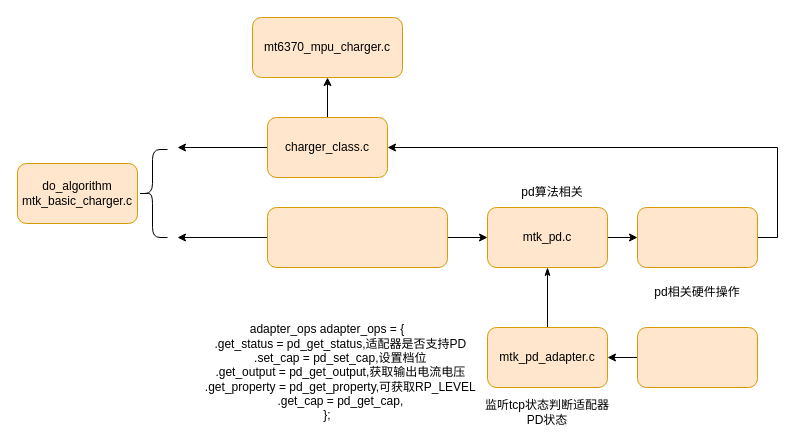
Image size: 803x445. Some labels were removed from this diagram. Here are the shapes that lost their labels. From the top down, the box of each, then its label:
(266, 206, 448, 268): mtk_charger_algorithm_class.c
(636, 206, 758, 268): mtk_pd_hal.c
(636, 326, 758, 388): tcpm.c
